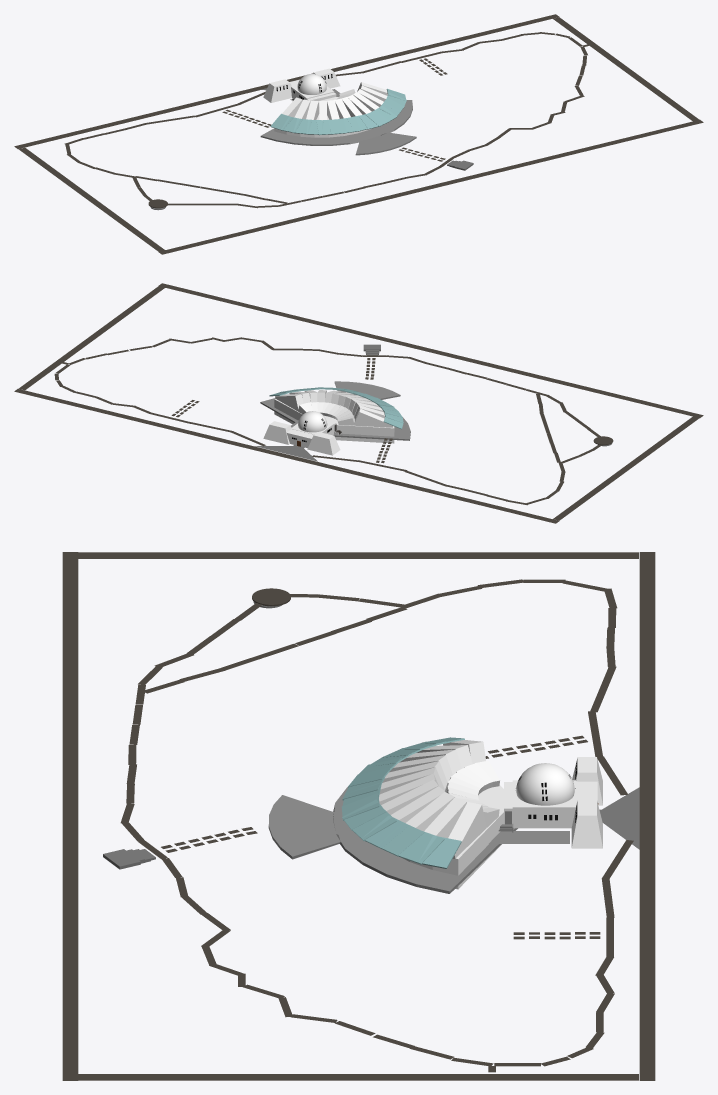
Rendered from asmundarsafn_nyast.obj.
The picture shows the model from 3 angles, top to bottom: view 1: azimuth 30°, elevation 25°; view 2: azimuth 150°, elevation 25°; view 3: azimuth 270°, elevation 25°; orthographic projection. The views are drawn at different scales.
Parts seen in each view (by area): view 1: Plane.001, Cube.047, Cube.033, Sphere, h_hlid; view 2: Plane.001, Cube.033, syningarsalur, Cube.047, h_hlid, Sphere, v_hlid; view 3: Plane.001, Cube.033, Cube.047, Sphere, innanhus, syningarsalur, v_hlid.
Boxes of the visible parts, x1,y1,x2,y2 form: Plane.001: (14, 14, 703, 254); Cube.047: (270, 88, 406, 135); Cube.033: (282, 82, 387, 120); Sphere: (297, 74, 326, 94); h_hlid: (263, 79, 291, 102); Plane.001: (14, 283, 703, 523); Cube.033: (275, 390, 392, 427); syningarsalur: (274, 399, 394, 443); Cube.047: (269, 387, 403, 429); h_hlid: (307, 432, 340, 455); Sphere: (298, 411, 327, 432); v_hlid: (263, 421, 291, 444); Plane.001: (62, 552, 655, 1080); Cube.033: (379, 740, 500, 858); Cube.047: (341, 737, 464, 868); Sphere: (516, 763, 574, 805); innanhus: (512, 780, 577, 828); syningarsalur: (403, 785, 503, 889); v_hlid: (571, 800, 602, 848).
Size of the model in its own units: 160 by 9.13 by 75.73.
